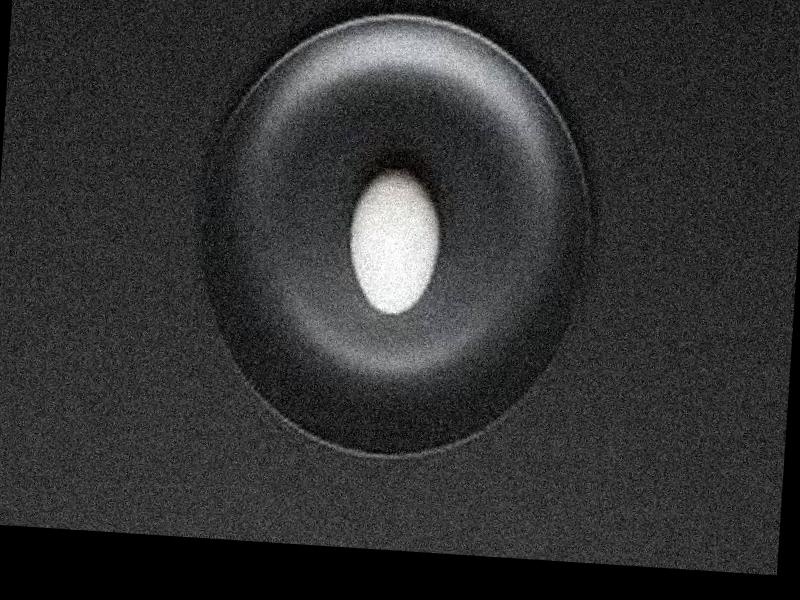Eggs: (346, 169, 444, 316)
